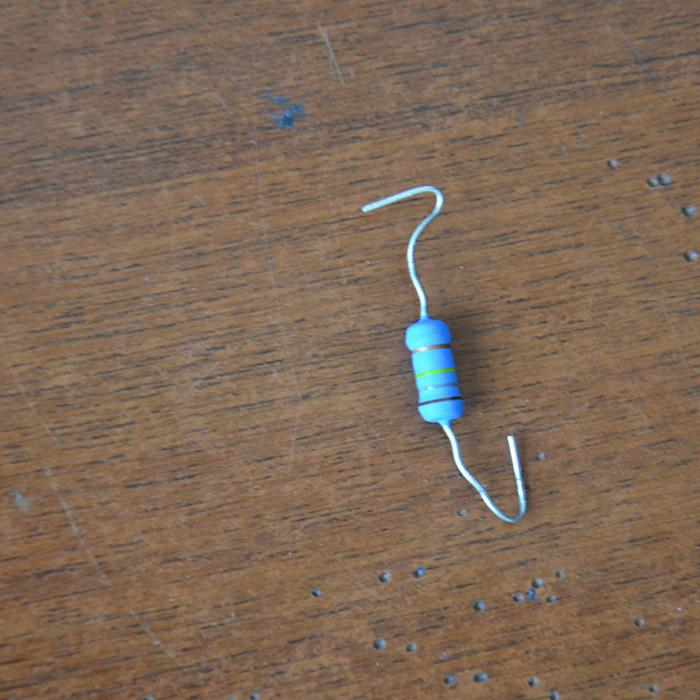resistor: (403, 317, 463, 422)
